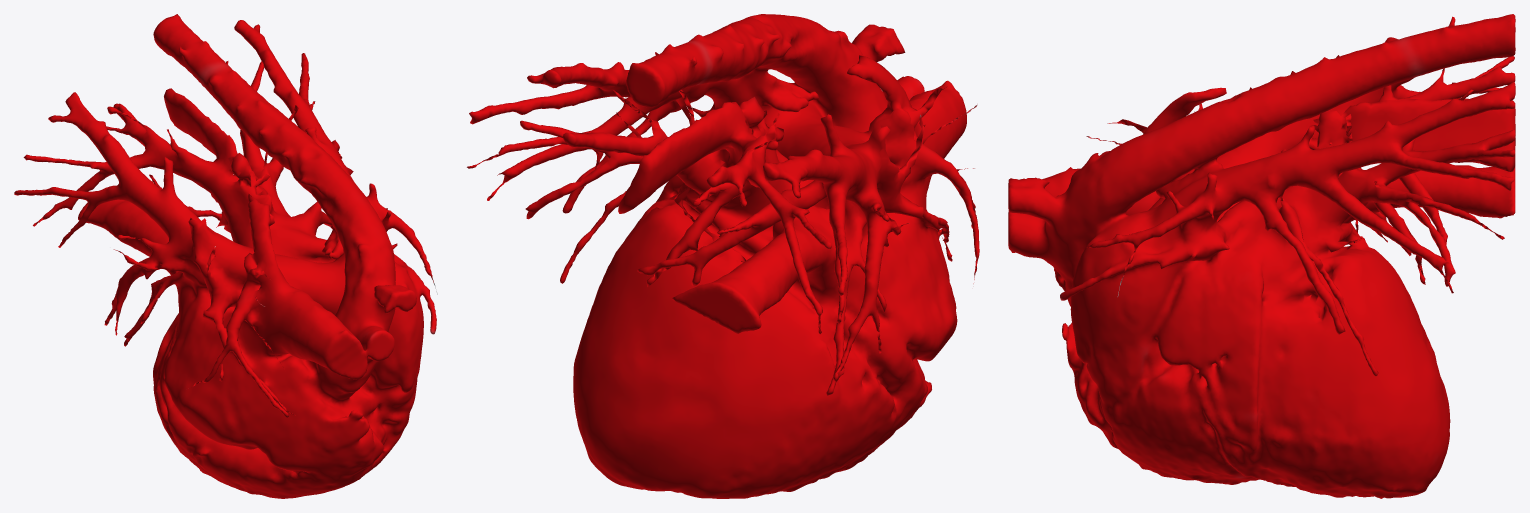
File: Heart.obj
3 views of the same model, side by side, from view 1: azimuth 30°, elevation 25°; view 2: azimuth 150°, elevation 25°; view 3: azimuth 270°, elevation 25° (orthographic). The views are drawn at different scales.
Parts seen in each view (by area): view 1: mmGroup0; view 2: mmGroup0; view 3: mmGroup0.
Boxes of the visible parts, x1,y1,x2,y2 form: mmGroup0: [14, 14, 437, 498]; mmGroup0: [467, 14, 979, 498]; mmGroup0: [1008, 14, 1515, 498].
Bounding box in the file's own units: 114 × 138 × 137.
